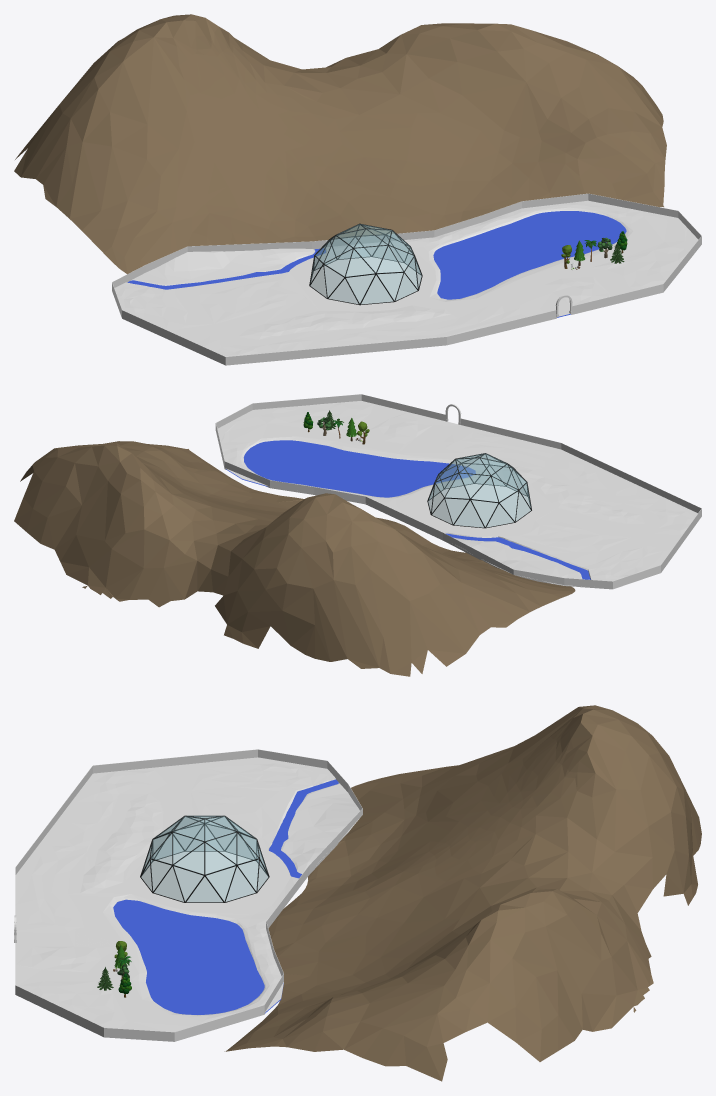
File: game_zoo.fbx
3 views of the same model, one above another, from view 1: azimuth 30°, elevation 25°; view 2: azimuth 150°, elevation 25°; view 3: azimuth 270°, elevation 25° (orthographic). The views are drawn at different scales.
Visible parts, largest first — view 1: Landscape.001, Plane.004, Plane.001, Plane.003, Icosphere, Icosphere.001; view 2: Landscape.001, Plane.004, Plane.003, Plane.001, Icosphere, Icosphere.001; view 3: Landscape.001, Plane.004, Plane.003, Icosphere, Plane.001, Icosphere.001.
Boxes of the visible parts, box(x1,y1,x2,y2) form: Landscape.001: box(14, 14, 666, 274); Plane.004: box(114, 200, 698, 356); Plane.001: box(112, 193, 701, 365); Plane.003: box(127, 211, 626, 317); Icosphere: box(310, 224, 421, 304); Icosphere.001: box(309, 223, 422, 305); Landscape.001: box(14, 441, 575, 676); Plane.004: box(217, 401, 697, 586); Plane.003: box(226, 440, 590, 579); Plane.001: box(215, 394, 701, 589); Icosphere: box(428, 453, 530, 527); Icosphere.001: box(427, 453, 531, 528); Landscape.001: box(224, 705, 701, 1081); Plane.004: box(15, 757, 359, 1031); Plane.003: box(113, 779, 338, 1014); Icosphere: box(141, 816, 268, 901); Plane.001: box(15, 749, 362, 1041); Icosphere.001: box(140, 815, 269, 902).
Size of the model in its own units: 21943 by 5323 by 19131.
